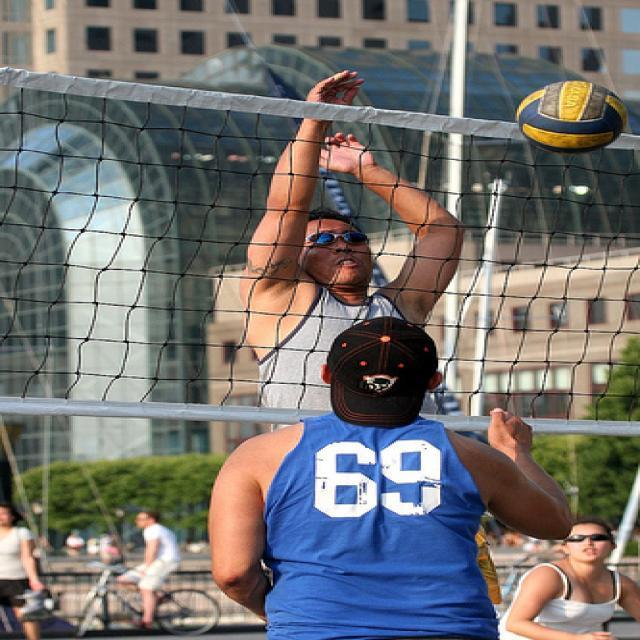volleyball: (516, 79, 629, 154)
